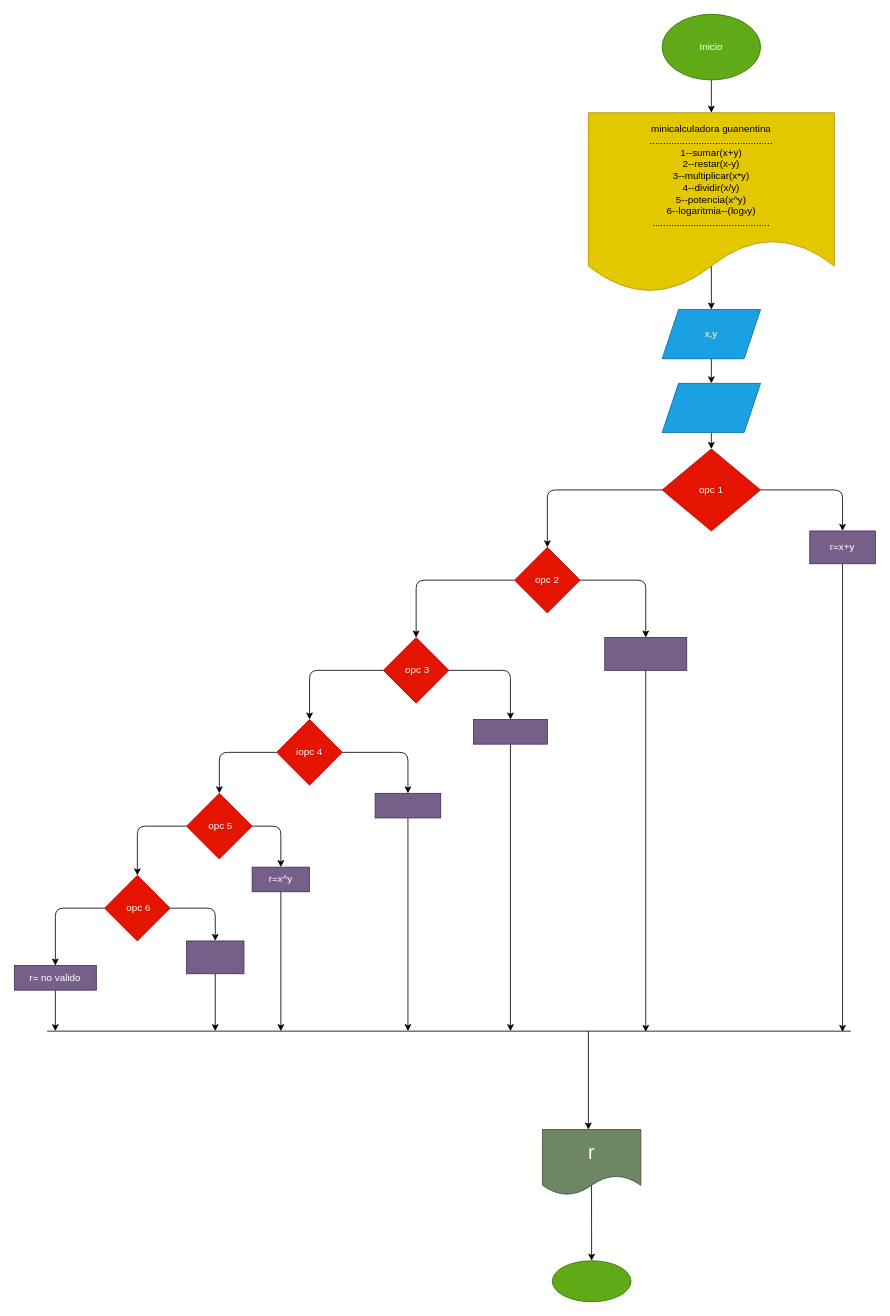
This 890x1316 diagram has some shape labels left out. The shapes that lost their labels are listed below. From the top down, each one's centre as x and y in pixels, then its label:
[711,408]: opc
[645,653]: r=x-y
[510,731]: r=x*y
[407,805]: r=x/y
[215,957]: r=log x y
[591,1281]: fin
